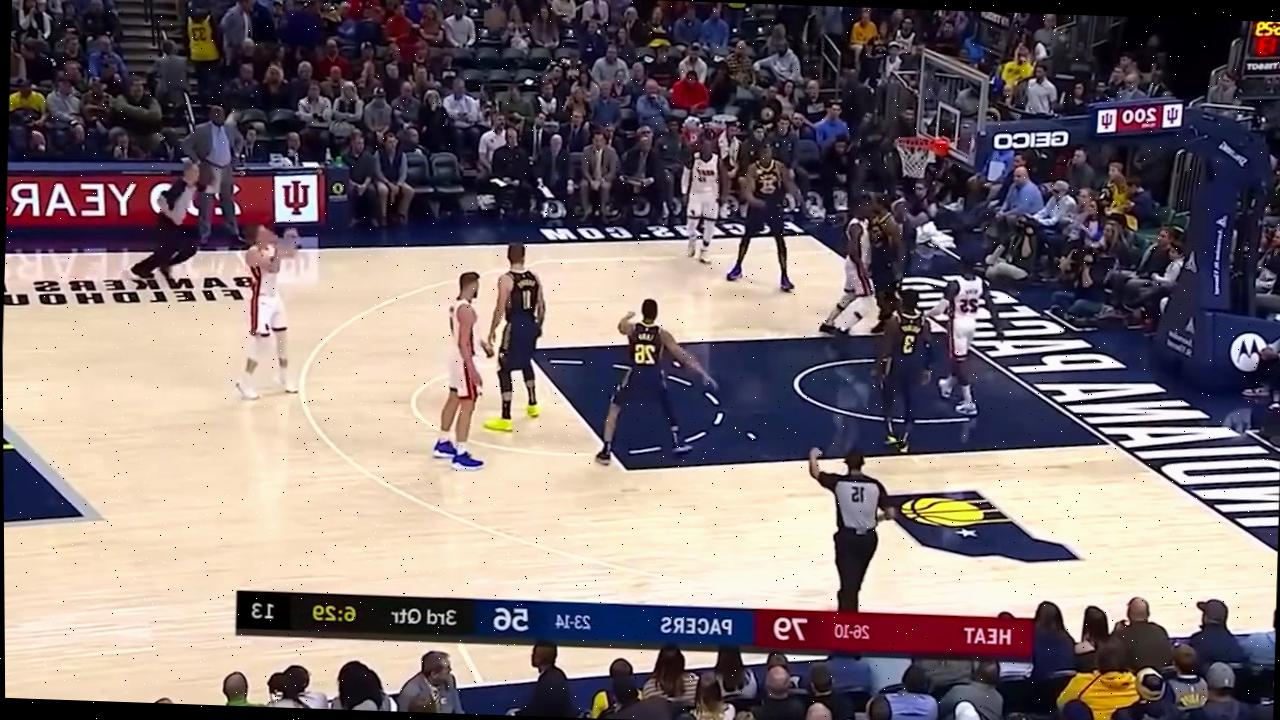foul: (809, 182, 933, 344)
